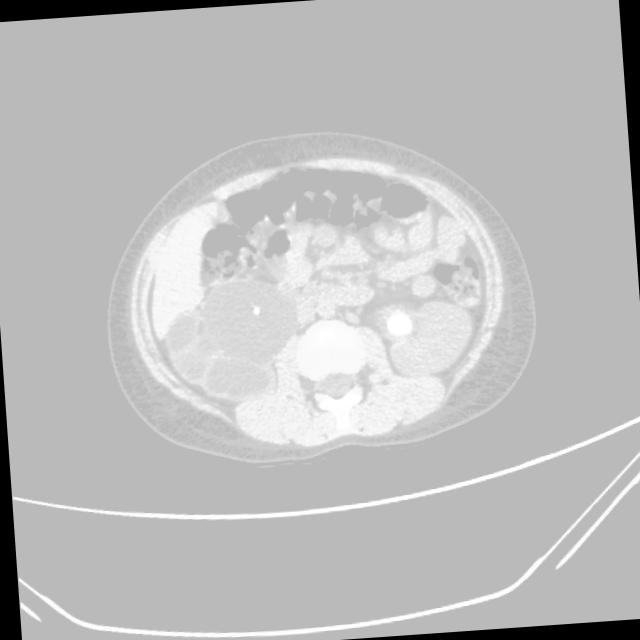STONE: (157, 115, 475, 321)
